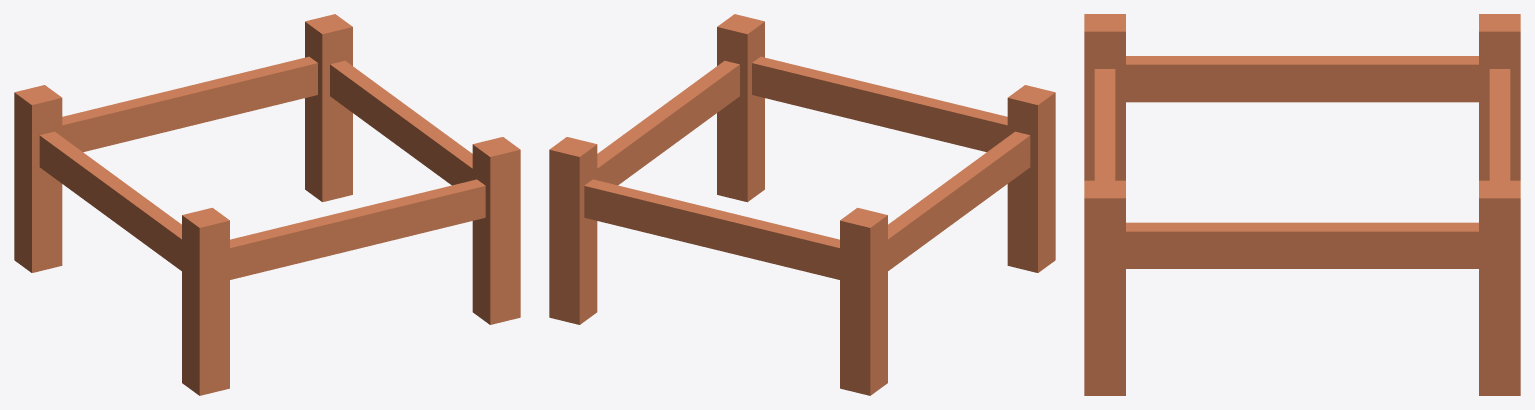
File: d_kenney_etai.glb
3 views of the same model, side by side, from view 1: azimuth 30°, elevation 25°; view 2: azimuth 150°, elevation 25°; view 3: azimuth 270°, elevation 25° (orthographic). The views are drawn at different scales.
Parts seen in each view (by area): view 1: d_kenney_etai; view 2: d_kenney_etai; view 3: d_kenney_etai.
Part boxes in pixels (box(x1,y1,x2,y2)): d_kenney_etai: box(14, 14, 520, 395); d_kenney_etai: box(549, 14, 1055, 395); d_kenney_etai: box(1084, 14, 1520, 395).
Size of the model in its own units: 1 by 0.5001 by 1.
Materials: 1 (1 with a texture image).
